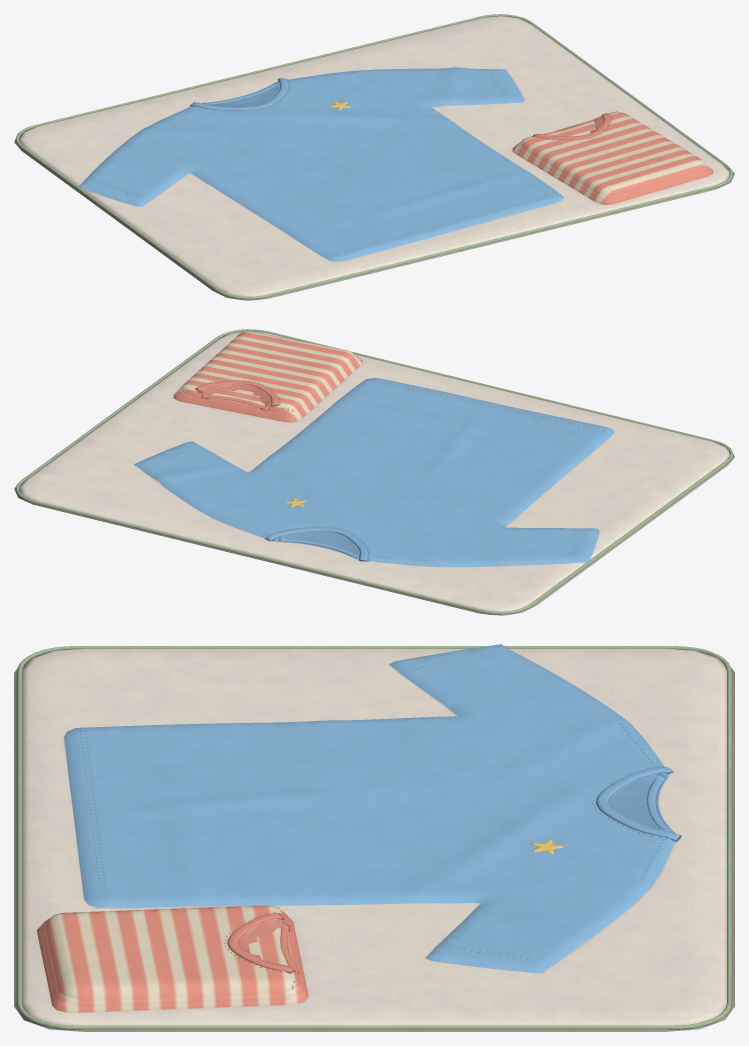
Rendered from t-shirt.glb.
The picture shows the model from 3 angles, top to bottom: view 1: azimuth 30°, elevation 25°; view 2: azimuth 150°, elevation 25°; view 3: azimuth 270°, elevation 25°; orthographic projection. The views are drawn at different scales.
Parts seen in each view (by area): view 1: t-shirt_body; view 2: t-shirt_body; view 3: t-shirt_body.
Part boxes in pixels (<box>): t-shirt_body: <box>14,14,734,300</box>; t-shirt_body: <box>14,329,734,615</box>; t-shirt_body: <box>14,644,734,1031</box>.
Bounding box in the file's own units: 1.06 × 0.036 × 0.84.
Materials: 1 (1 with a texture image).
